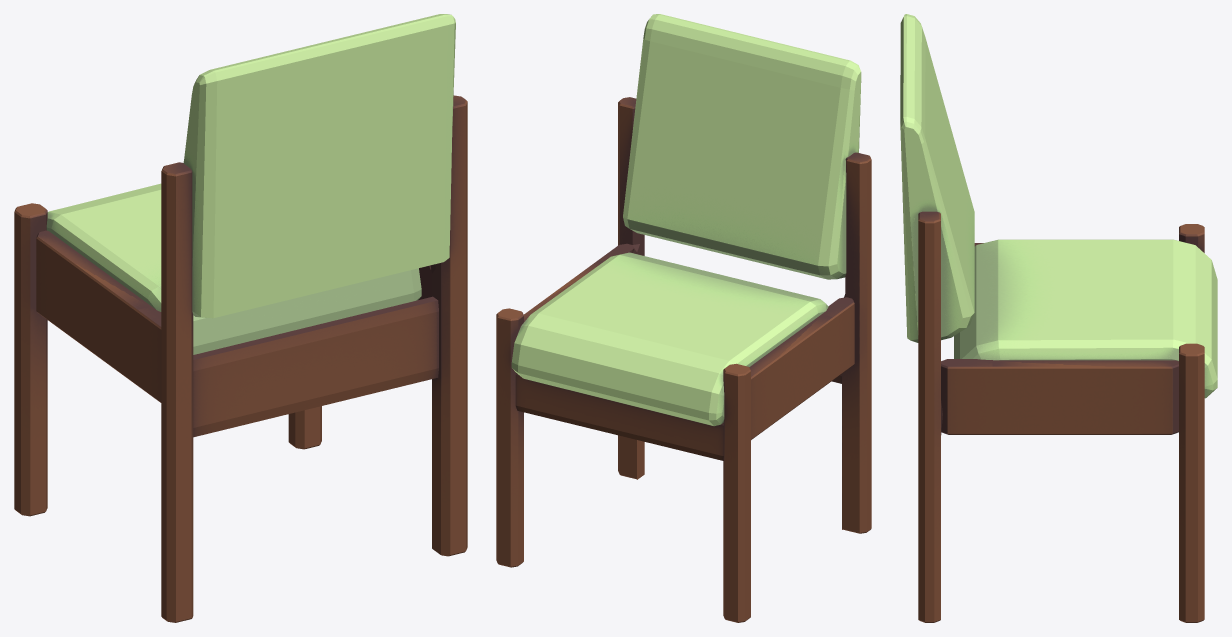
Rendered from Lounge Chair.fbx.
3 views of the same model, side by side, from view 1: azimuth 30°, elevation 25°; view 2: azimuth 150°, elevation 25°; view 3: azimuth 270°, elevation 25° (orthographic). The views are drawn at different scales.
Visible parts, largest first — view 1: Plane.001, Plane.003, Cube.001, Plane, Plane.002; view 2: Plane.001, Plane, Plane.003, Plane.002, Cube; view 3: Plane.002, Plane, Plane.001, Plane.003.
Part boxes in pixels (x1=…): Plane.001: x1=183, y1=14, x2=455, y2=318; Plane.003: x1=14, y1=162, x2=193, y2=622; Cube.001: x1=193, y1=296, x2=438, y2=437; Plane: x1=46, y1=183, x2=421, y2=354; Plane.002: x1=288, y1=95, x2=467, y2=556; Plane.001: x1=623, y1=14, x2=861, y2=279; Plane: x1=511, y1=252, x2=828, y2=426; Plane.003: x1=723, y1=152, x2=871, y2=622; Plane.002: x1=496, y1=97, x2=644, y2=567; Cube: x1=515, y1=373, x2=723, y2=460; Plane.002: x1=918, y1=211, x2=1204, y2=622; Plane: x1=954, y1=239, x2=1217, y2=398; Plane.001: x1=900, y1=14, x2=974, y2=342; Plane.003: x1=974, y1=224, x2=1204, y2=252.
Bounding box in the file's own units: 236 × 412 × 241.
Materials: 2 (2 with a texture image).
